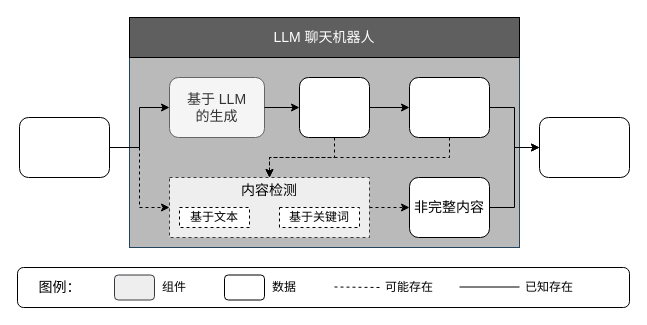
Some shapes in this 647 by 325 pixel diagram are drawn without their labels. The centre of each missing label's shape, as x and y in pixels:
LLM 响应: (x=584, y=147)
完整输出: (x=449, y=107)
数据流: (x=334, y=107)
输入问题: (x=64, y=147)
